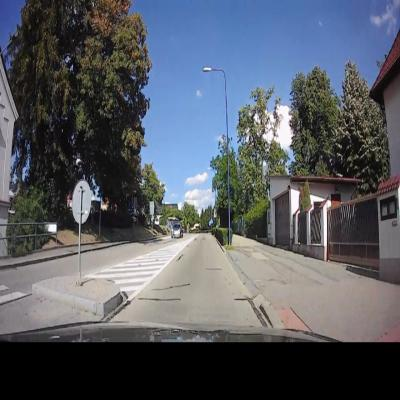clear-road: (115, 233, 262, 328), (81, 241, 170, 275), (0, 255, 77, 291)
